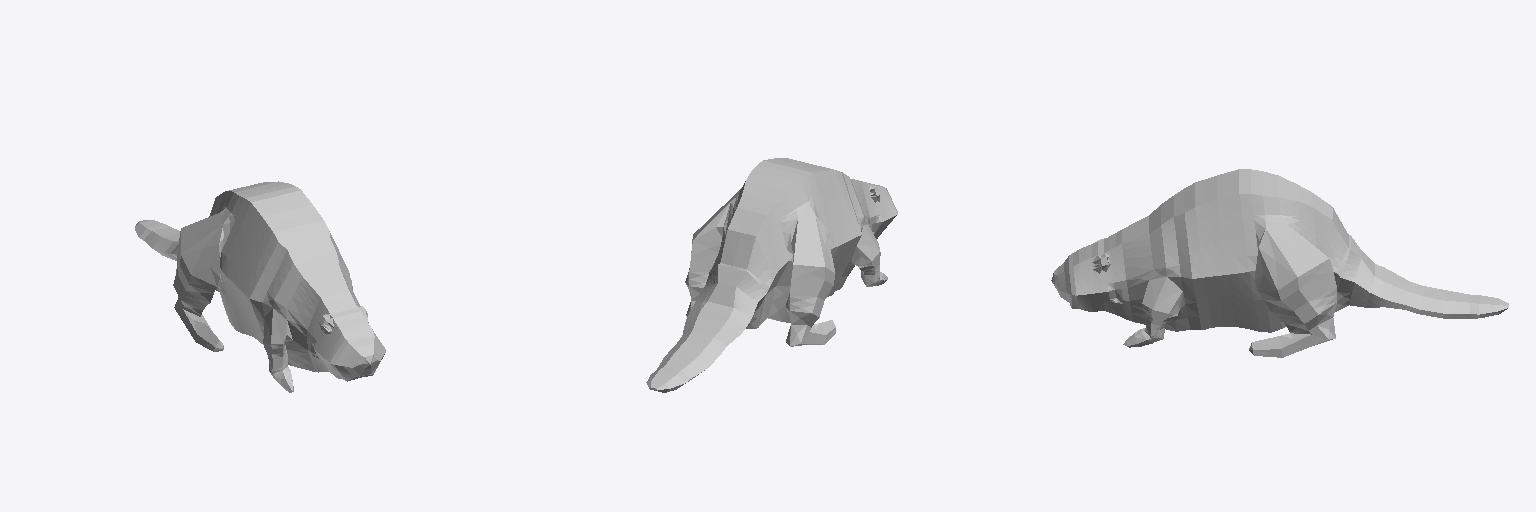
The model's file is beaver.obj.
3 renders of one model, left to right at view 1: azimuth 30°, elevation 25°; view 2: azimuth 150°, elevation 25°; view 3: azimuth 270°, elevation 25°, orthographic.
Visible parts, largest first — view 1: group2_pCylinder5; view 2: group2_pCylinder5; view 3: group2_pCylinder5.
Part boxes in pixels (x1,y1,x2,y2): group2_pCylinder5: (135, 181, 385, 392); group2_pCylinder5: (646, 158, 897, 392); group2_pCylinder5: (1051, 169, 1508, 357).
Bounding box in the file's own units: 0.4445 × 0.4766 × 1.33.